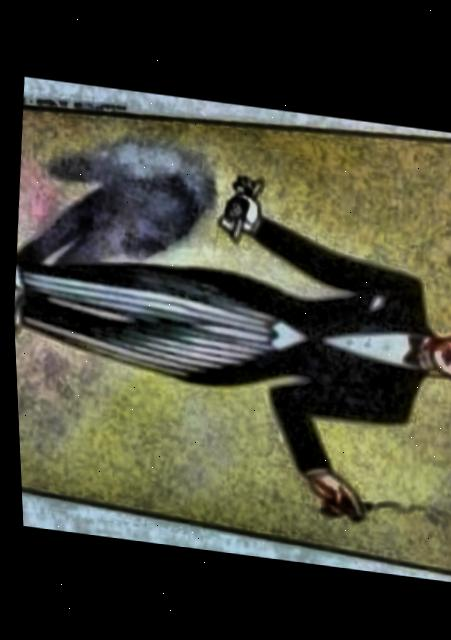El Catrin: (11, 109, 451, 570)
